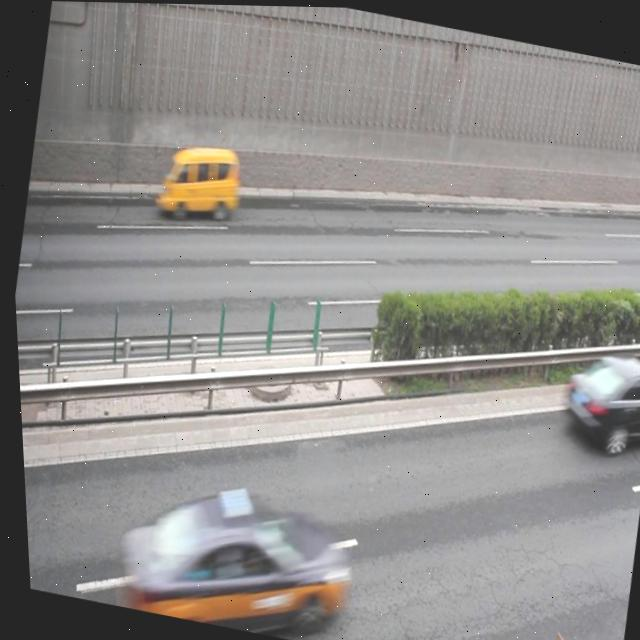car: (102, 465, 349, 640), (550, 345, 640, 450)
truck: (151, 135, 243, 226)
